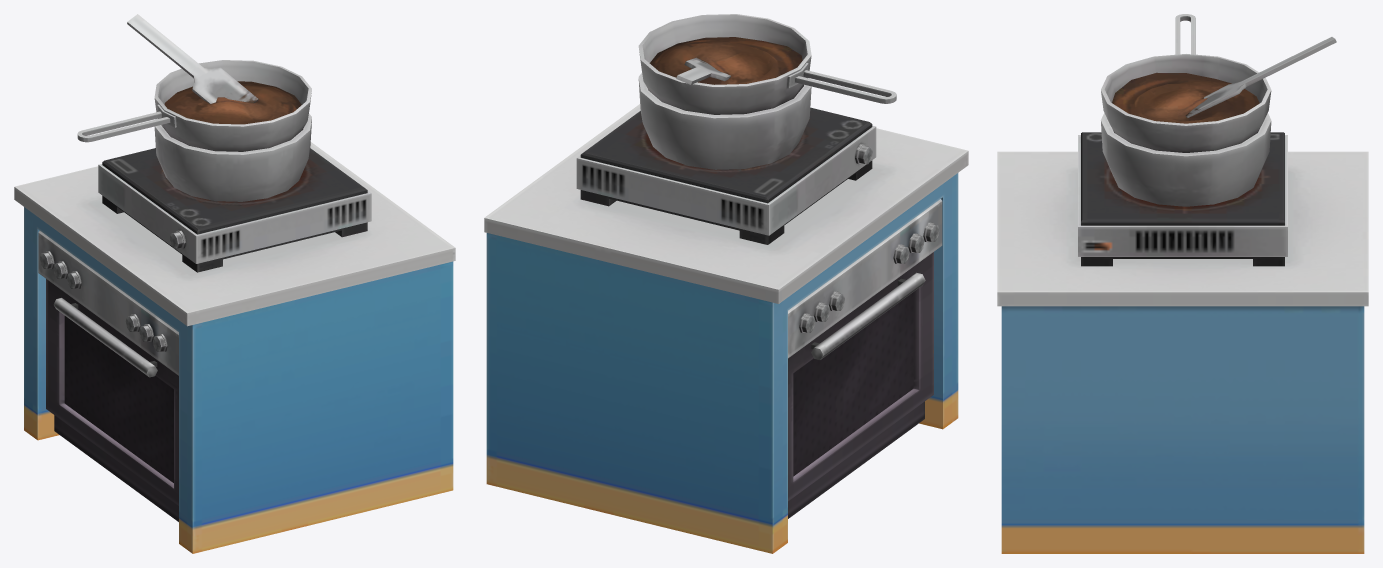
File: my_chocolatecafe_01_p_bar_01.glb
3 renders of one model, left to right at view 1: azimuth 30°, elevation 25°; view 2: azimuth 150°, elevation 25°; view 3: azimuth 270°, elevation 25°, orthographic. The views are drawn at different scales.
Parts seen in each view (by area): view 1: my_chocolatecafe_01_p_bar_01; view 2: my_chocolatecafe_01_p_bar_01; view 3: my_chocolatecafe_01_p_bar_01.
Boxes of the visible parts, x1,y1,x2,y2 form: my_chocolatecafe_01_p_bar_01: (14,14,455,553); my_chocolatecafe_01_p_bar_01: (484,14,968,553); my_chocolatecafe_01_p_bar_01: (997,14,1368,553).
Size of the model in its own units: 0.00559 by 0.00743 by 0.0058.
1 material, 1 textured.
